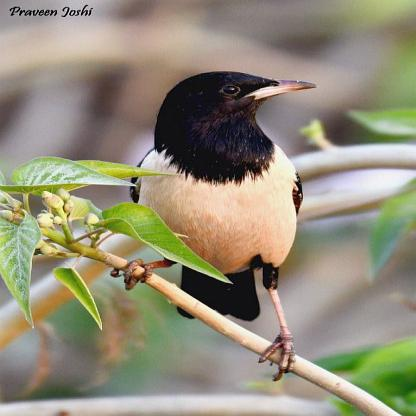Burung: (116, 72, 323, 380)
